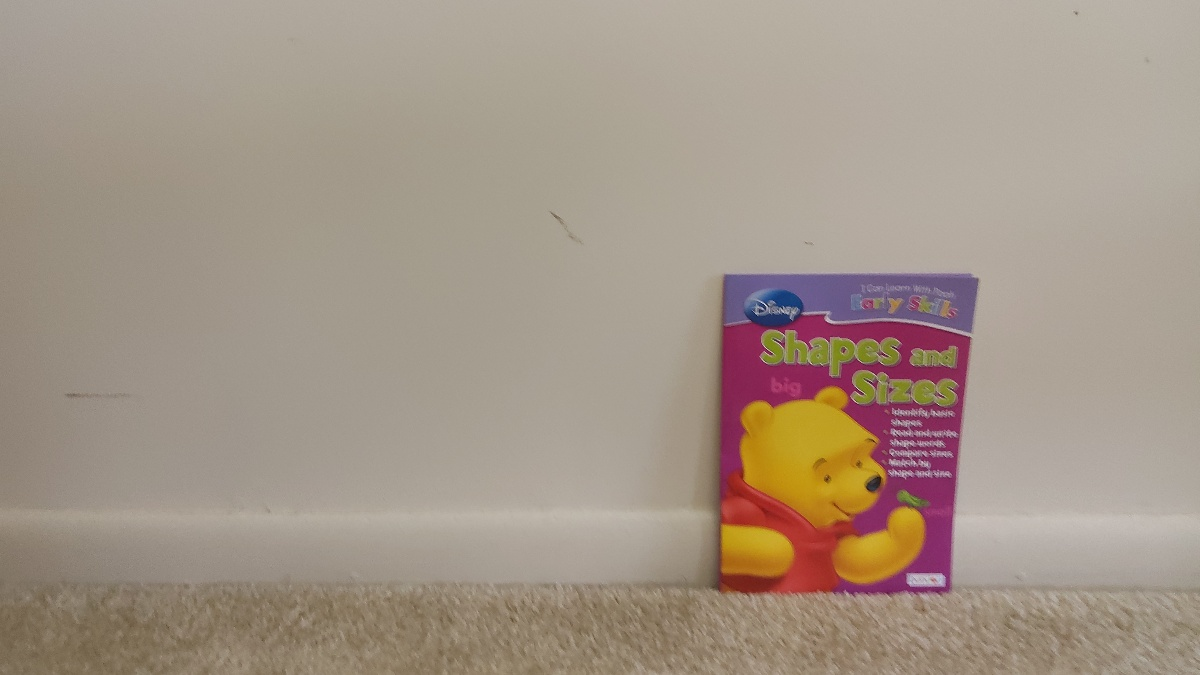book: (723, 273, 953, 591)
